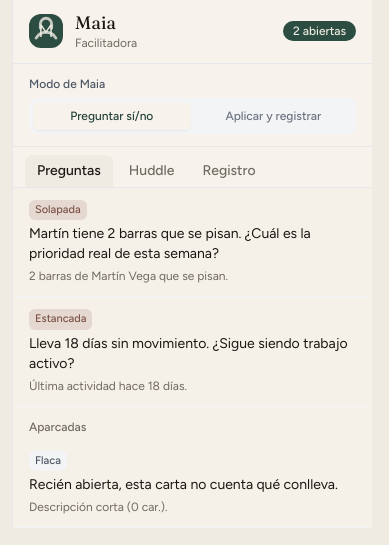
Scenario: MaiaPanel › la pestaña Registro lista el actionLog read-only
The width and height of the screenshot is (389, 545).
Click the button "Registro". click: click(229, 170)
box: [190, 154, 268, 186]
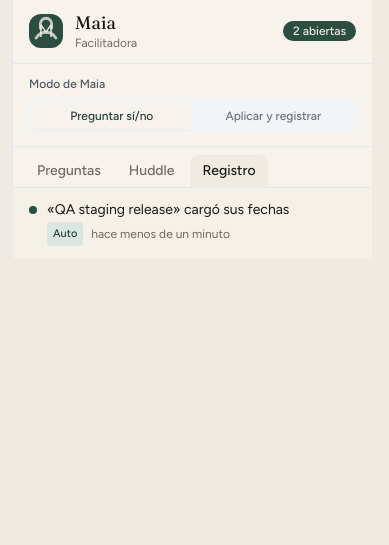
Now the text "«QA staging release» cargó sus fechas" is shown, box [47, 200, 289, 220]
